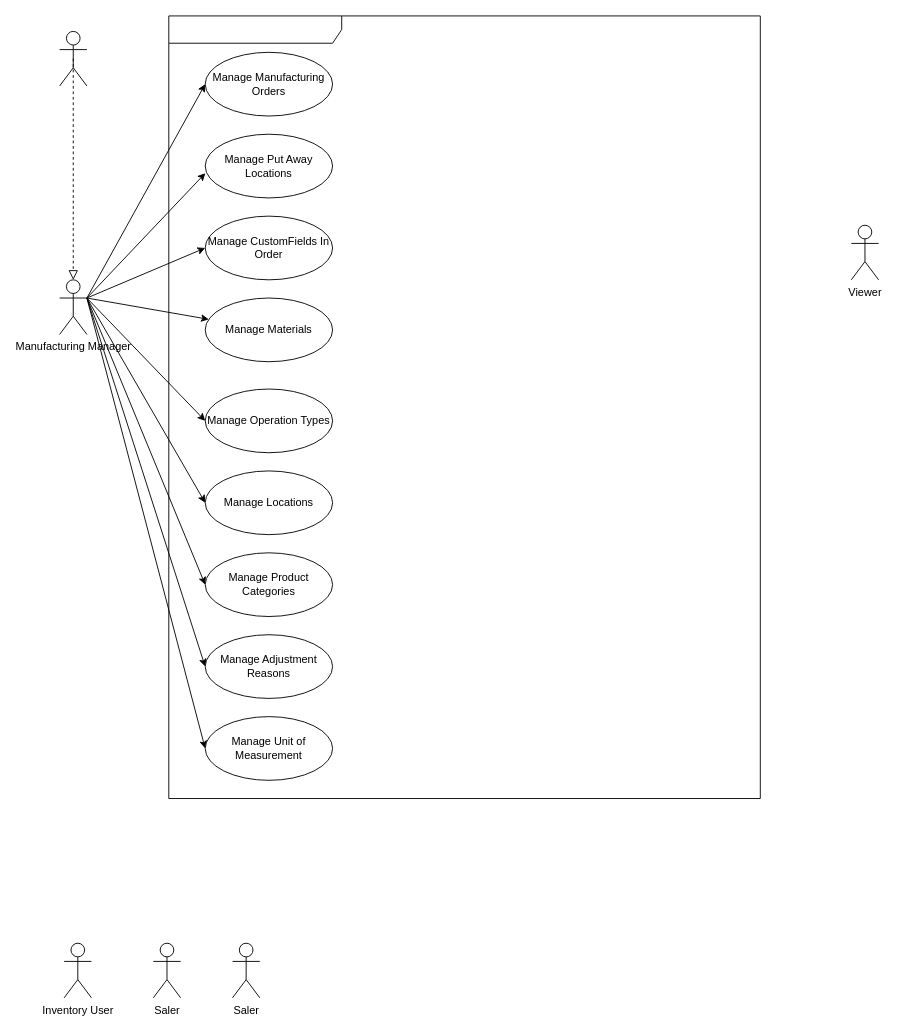
Image size: 897x1033. Some labels were removed from this diagram. Here are the shapes that lost their labels. From the top down, the box of each, then its label:
(59, 30, 87, 86): Operator
(168, 15, 760, 799): inflow Manufacturing - use cases
